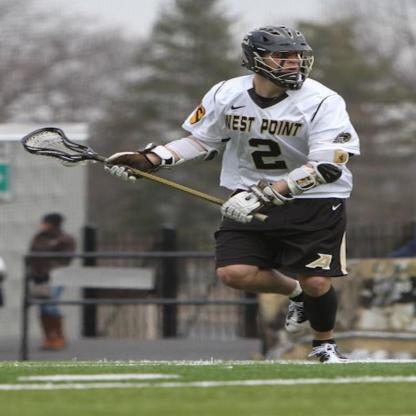Helmet: (240, 22, 321, 96)
